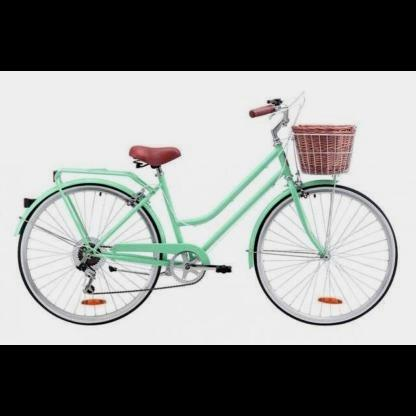Bicycle: (2, 75, 408, 335)
